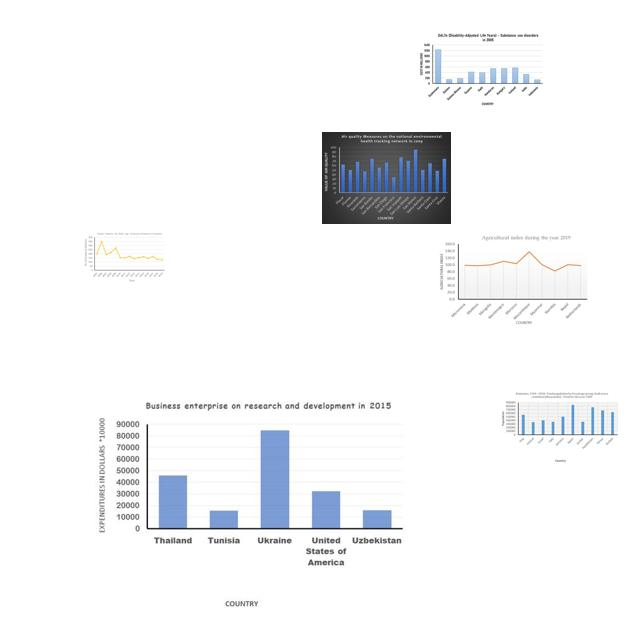Graph: (95, 396, 408, 615), (436, 233, 589, 325), (322, 132, 451, 224), (417, 31, 545, 108), (498, 390, 620, 463), (83, 231, 166, 283)
